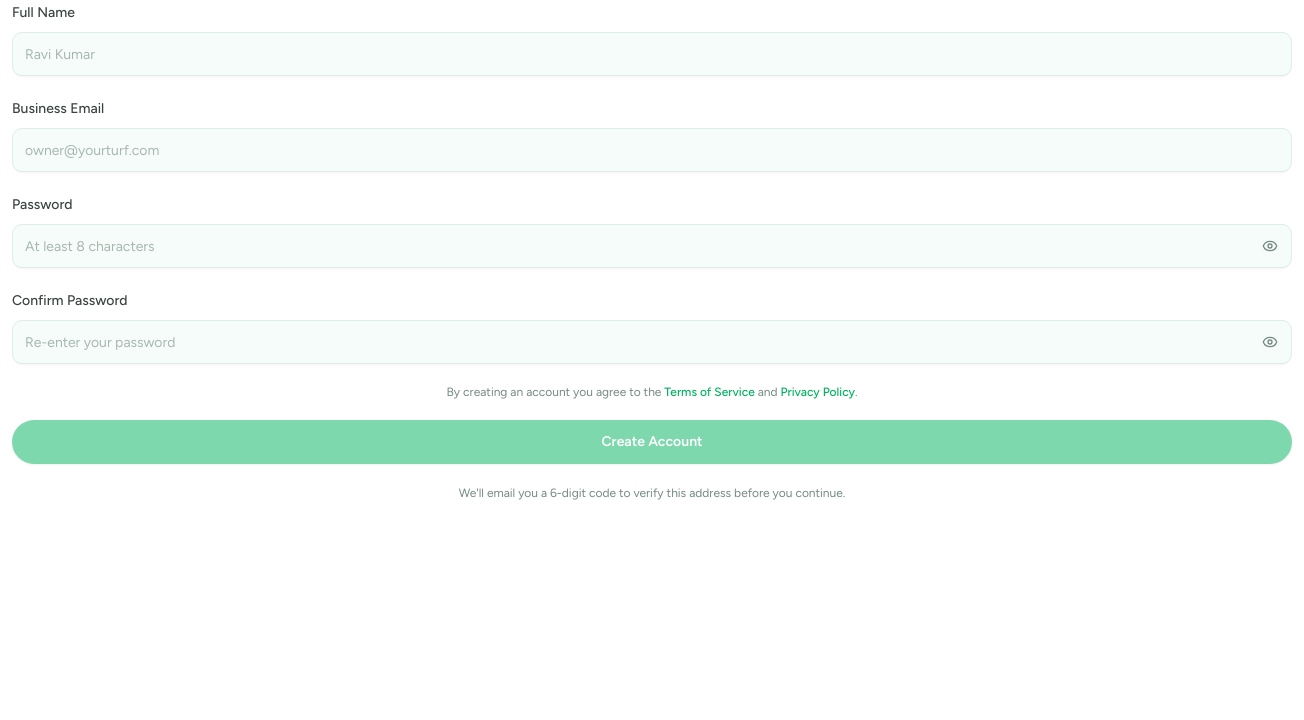
Test: SignupForm › reports an invalid email before submission
The image size is (1304, 720).
In the field labelled "Business Email": (652, 150) [12, 128, 1292, 172], type "owner@"
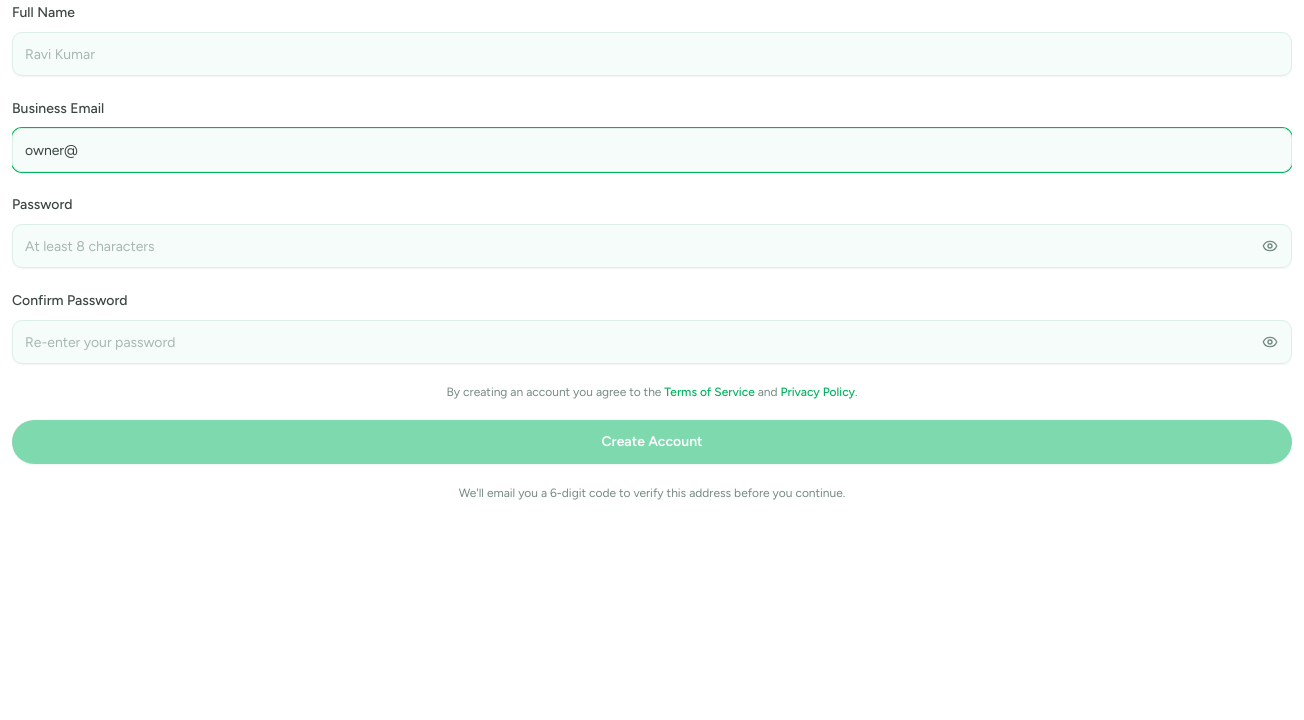
Press Tab
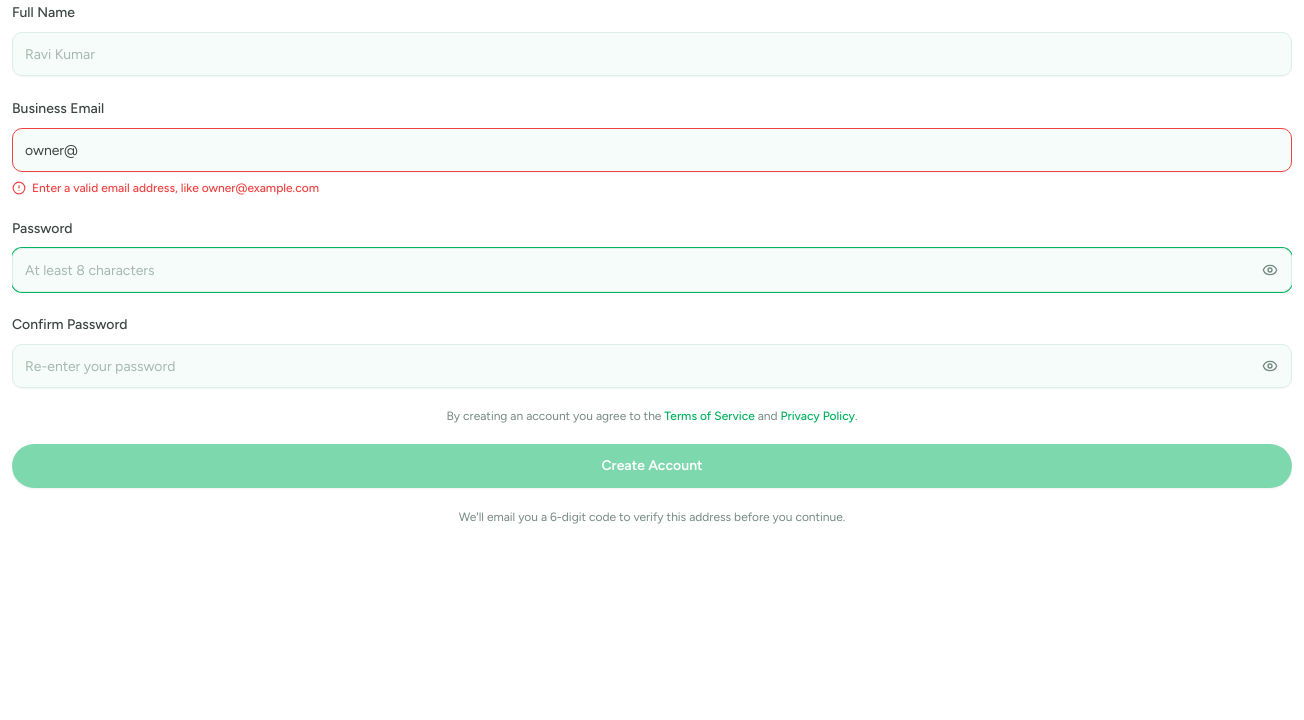
Expected: the text "Enter a valid email address, like owner@example.com" is shown, [32, 180, 319, 196]
